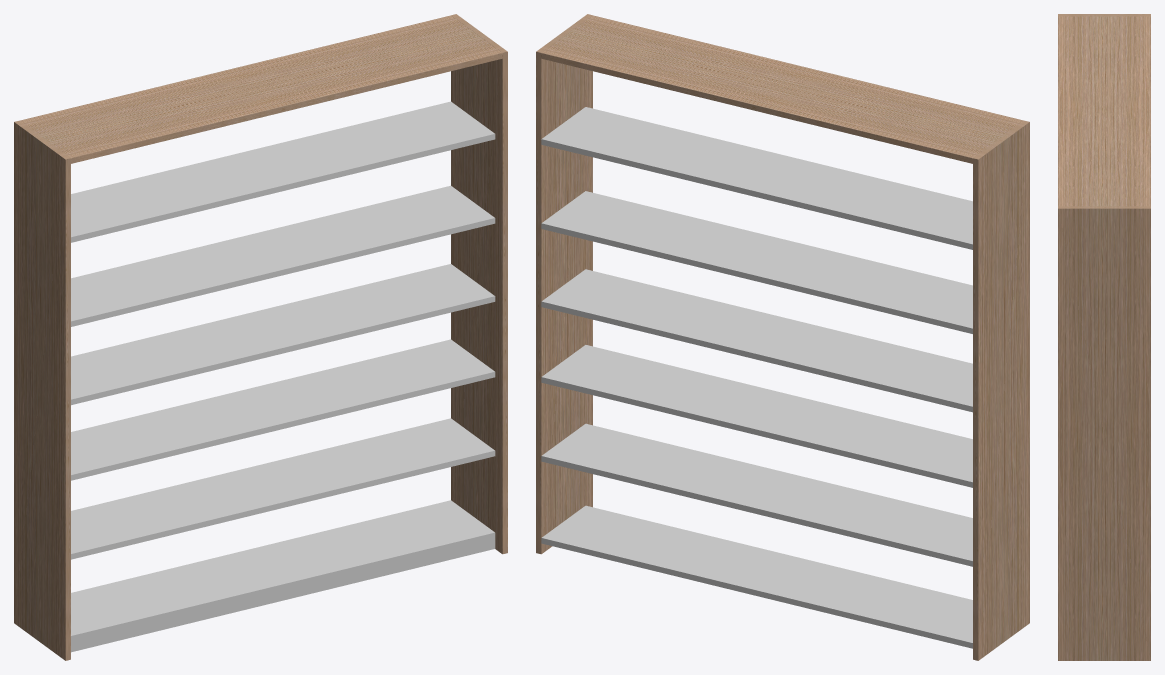
File: Books cabinet 2.FBX
3 views of the same model, side by side, from view 1: azimuth 30°, elevation 25°; view 2: azimuth 150°, elevation 25°; view 3: azimuth 270°, elevation 25° (orthographic). The views are drawn at different scales.
Parts seen in each view (by area): view 1: books cabinet 2; view 2: books cabinet 2; view 3: books cabinet 2.
Part boxes in pixels (x1,y1,x2,y2): books cabinet 2: [14, 14, 507, 660]; books cabinet 2: [536, 14, 1029, 660]; books cabinet 2: [1058, 14, 1150, 660].
Bounding box in the file's own units: 217 × 235 × 43.75.
2 materials, 1 textured.
